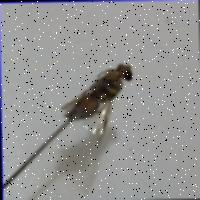Oriental-fruit-fly: (53, 60, 148, 146)
